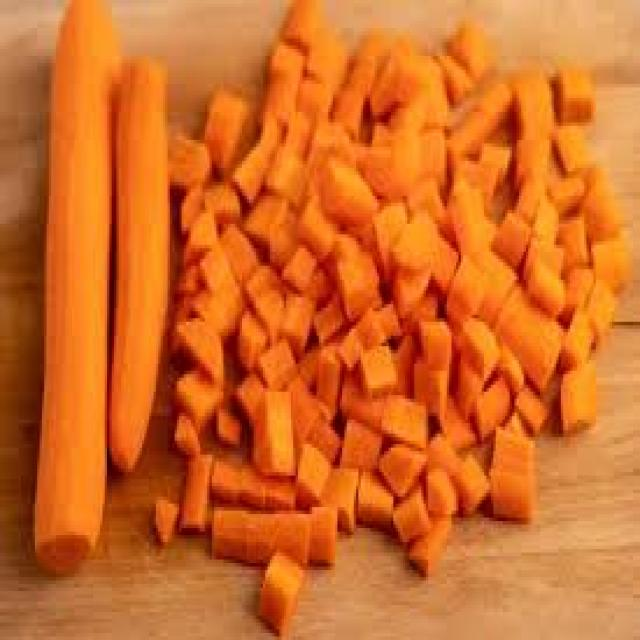Fresh_Carrot: (50, 0, 605, 601)
